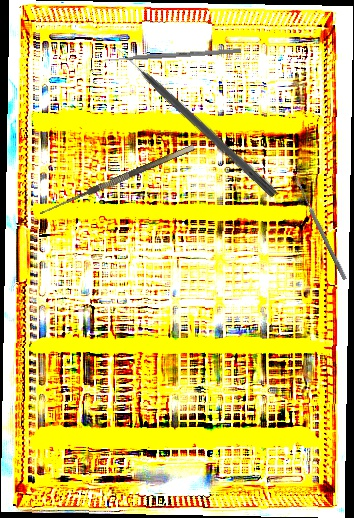Hook Surgical: (38, 144, 199, 224)
Pusher: (114, 43, 280, 199), (97, 47, 241, 64)
Surgical Spoon: (293, 176, 348, 281)
